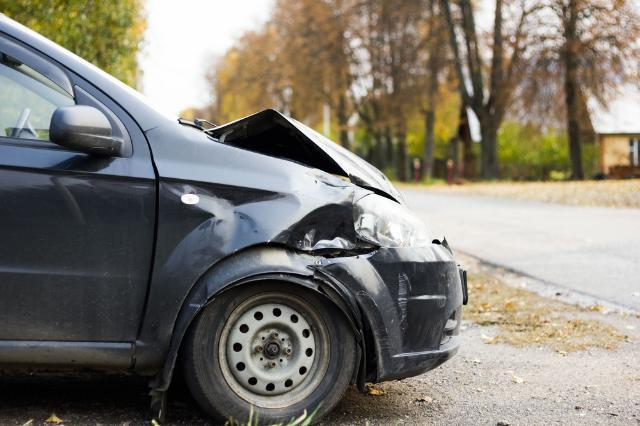dent: (200, 186, 357, 258), (190, 287, 208, 307)
dislocated part: (198, 109, 445, 242)
scratch: (396, 271, 413, 326)
